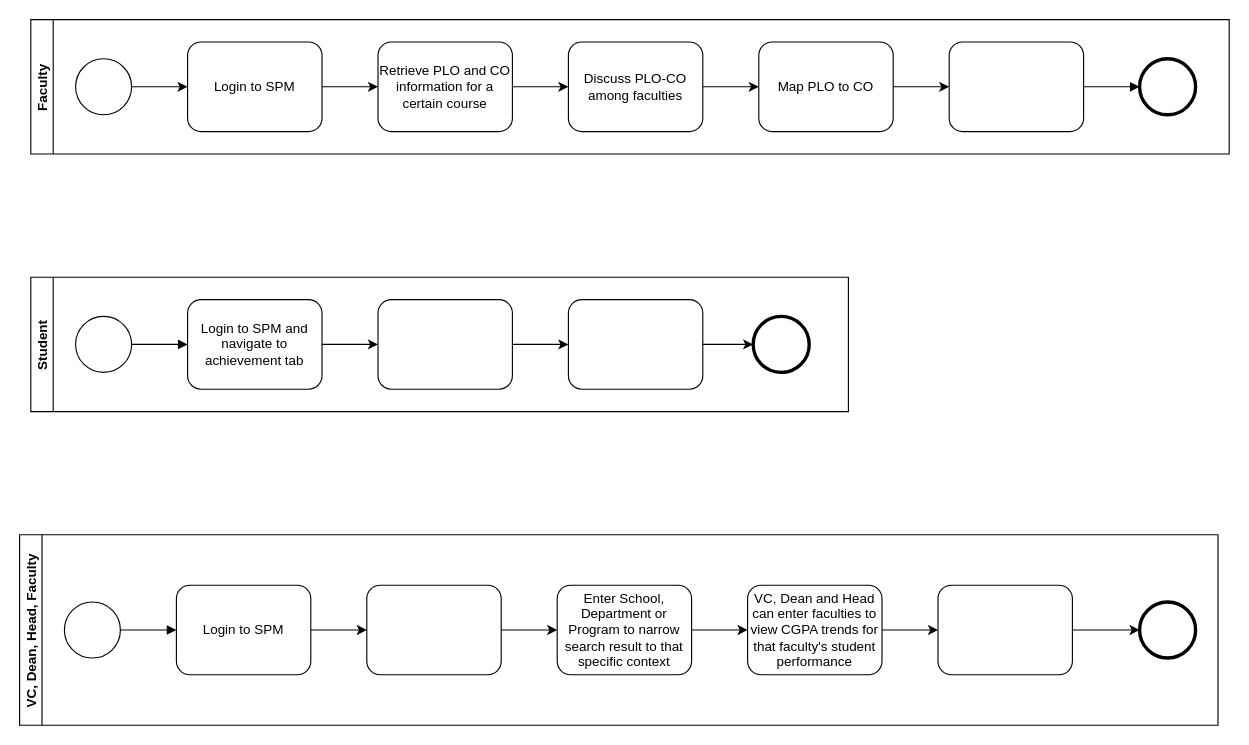
The diagram is 1249 pixels wide and 745 high, and some of its shapes have lost their labels. Here are the shapes that lost their labels. From the top down, the centre of each, then its label:
At [1016,86]: "Submit PLO-CO mapping in SPM DB".
At [444,343]: "CGPA and PLO will displayed by default on the dashboard".
At [635,343]: "To view transcript, they have enter year and semester".
At [433,629]: "They have to enter semesterrange to view the CGPA and PLO achievements trends.".
At [1004,629]: "Faculties can view performance trends for their sections".
